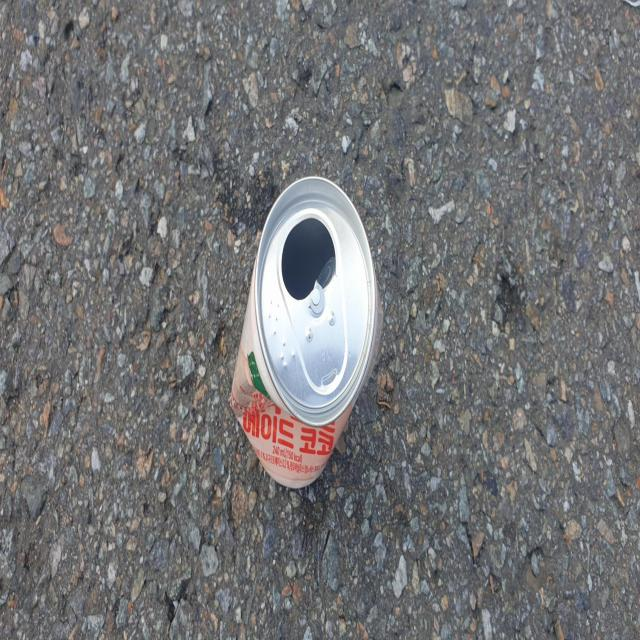can: (231, 175, 383, 488)
